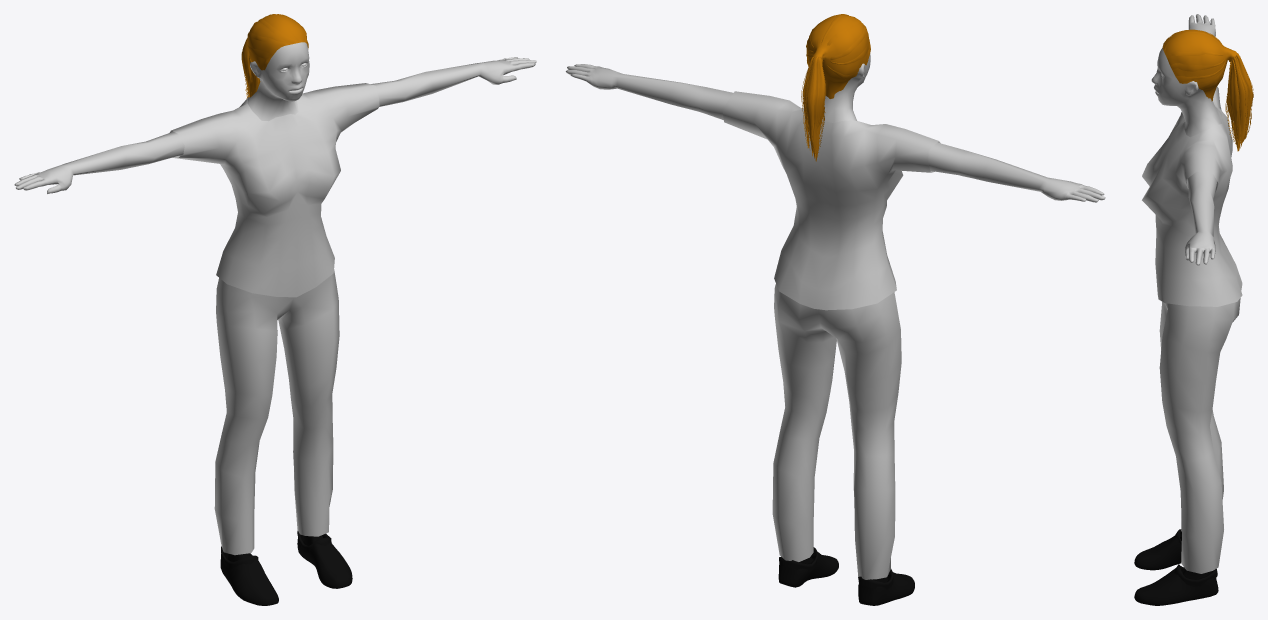
The model's file is kadın 11.obj.
3 renders of one model, left to right at view 1: azimuth 30°, elevation 25°; view 2: azimuth 150°, elevation 25°; view 3: azimuth 270°, elevation 25°, orthographic. The views are drawn at different scales.
Visible parts, largest first — view 1: KadÄ±n:Male1591.002, KadÄ±n:Male1591.001, KadÄ±n:Male1591, KadÄ±n:Shoes05, KadÄ±n:Ponytail01; view 2: KadÄ±n:Male1591.002, KadÄ±n:Male1591.001, KadÄ±n:Male1591, KadÄ±n:Ponytail01, KadÄ±n:Shoes05; view 3: KadÄ±n:Male1591.002, KadÄ±n:Male1591.001, KadÄ±n:Male1591, KadÄ±n:Ponytail01, KadÄ±n:Shoes05.
Part boxes in pixels (x1,y1,x2,y2): KadÄ±n:Male1591.002: (214, 269, 339, 555); KadÄ±n:Male1591.001: (169, 83, 379, 297); KadÄ±n:Male1591: (14, 42, 536, 194); KadÄ±n:Shoes05: (220, 530, 352, 605); KadÄ±n:Ponytail01: (241, 14, 308, 98); KadÄ±n:Male1591.002: (772, 284, 901, 579); KadÄ±n:Male1591.001: (722, 91, 940, 310); KadÄ±n:Male1591: (565, 54, 1105, 202); KadÄ±n:Ponytail01: (801, 14, 870, 161); KadÄ±n:Shoes05: (778, 547, 914, 605); KadÄ±n:Male1591.002: (1159, 298, 1240, 573); KadÄ±n:Male1591.001: (1142, 86, 1242, 306); KadÄ±n:Male1591: (1151, 14, 1222, 265); KadÄ±n:Ponytail01: (1162, 29, 1253, 151); KadÄ±n:Shoes05: (1134, 529, 1218, 605).
Bounding box in the file's own units: 16.07 × 16.52 × 3.24.
